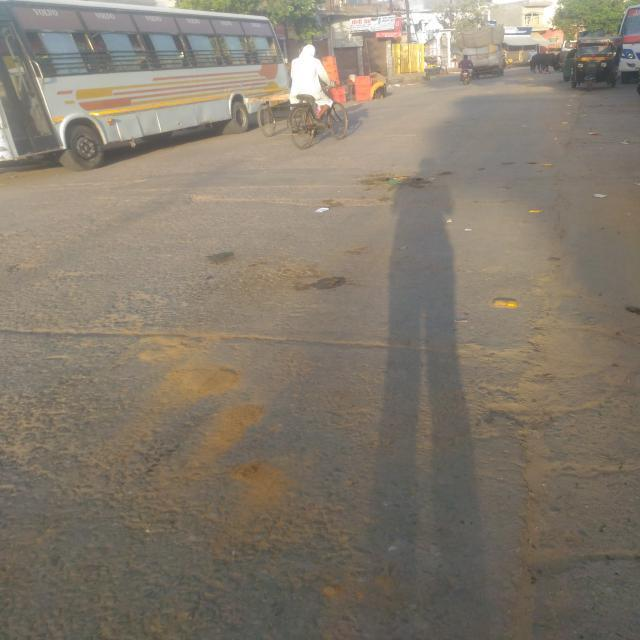auto_front: (566, 33, 622, 96)
bus_front: (614, 3, 640, 87)
truck_back: (451, 17, 513, 78)
two_wheeler_back: (454, 64, 474, 88)
